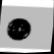correct: (4, 15, 34, 44)
